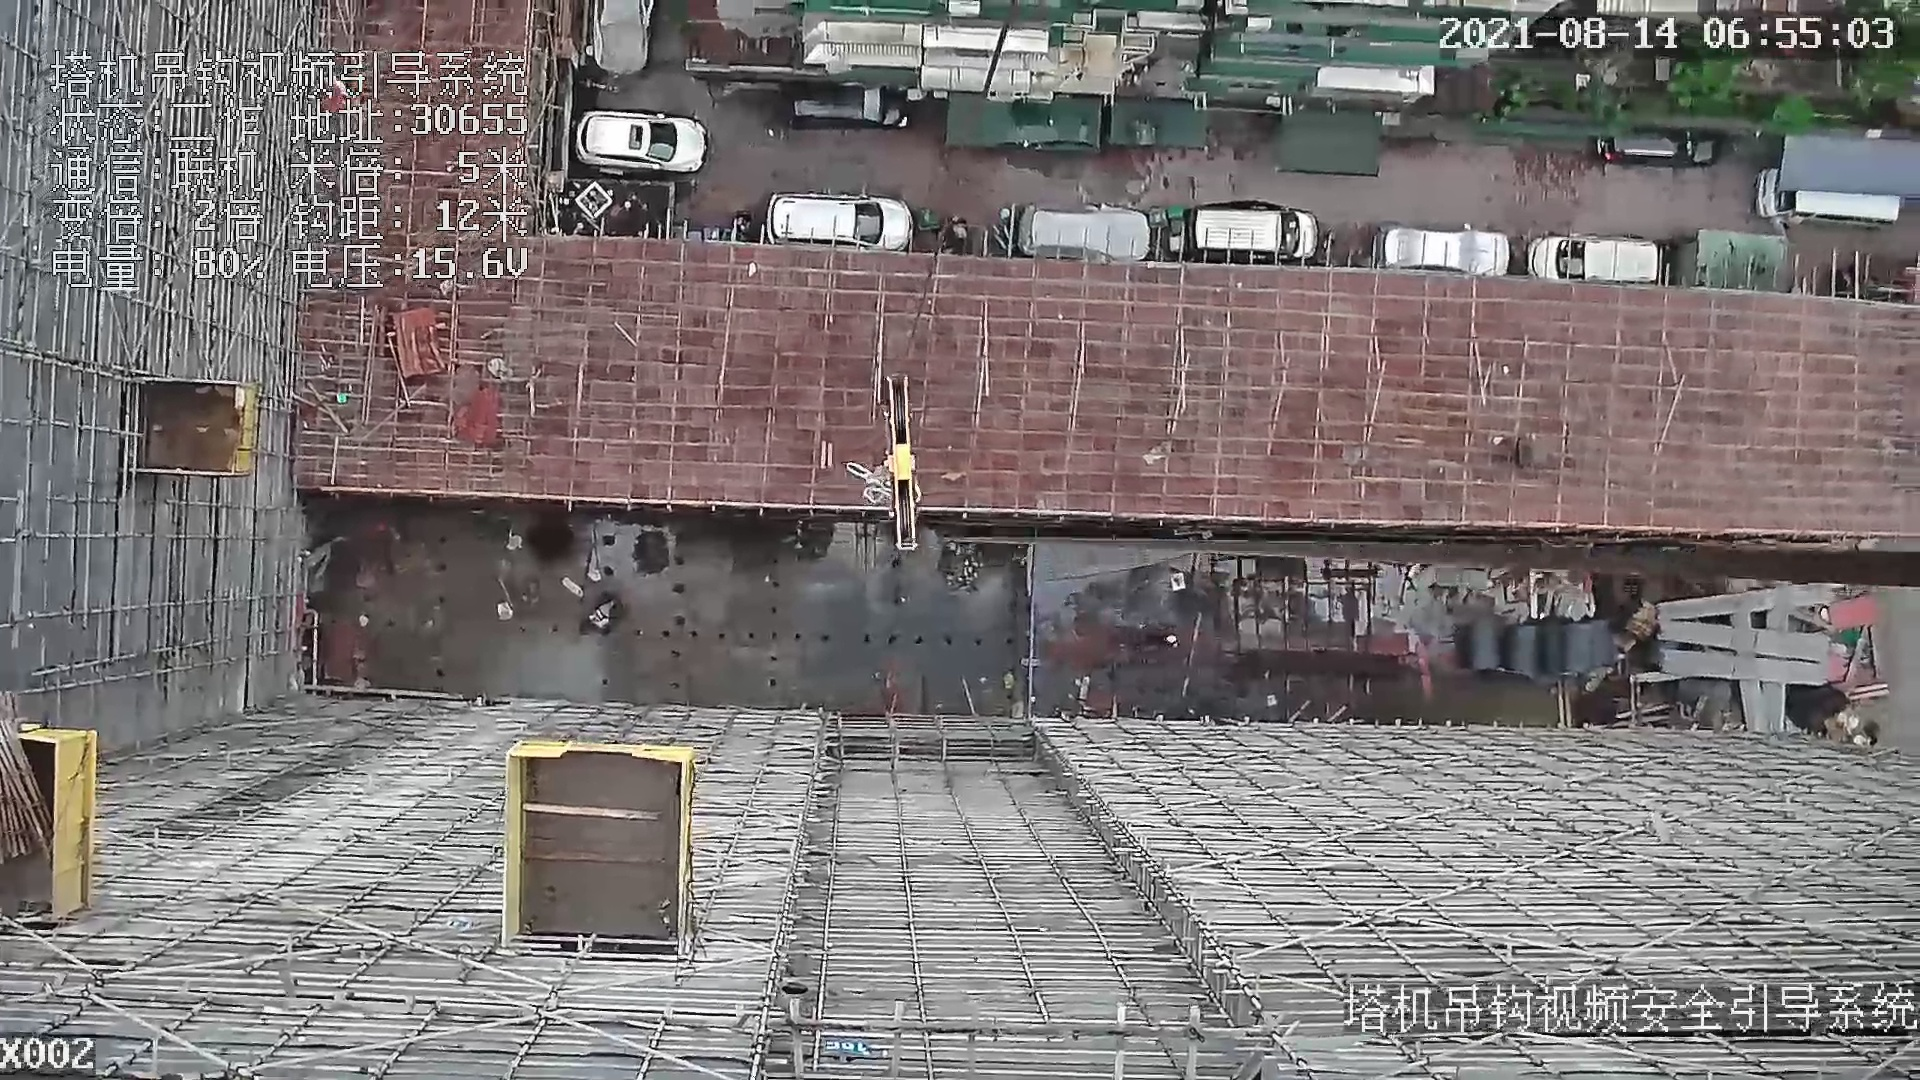hook: (880, 357, 928, 550)
rebar: (1658, 620, 1826, 663), (1658, 582, 1834, 620), (1662, 650, 1830, 687)
scaffold: (1, 695, 51, 866)
